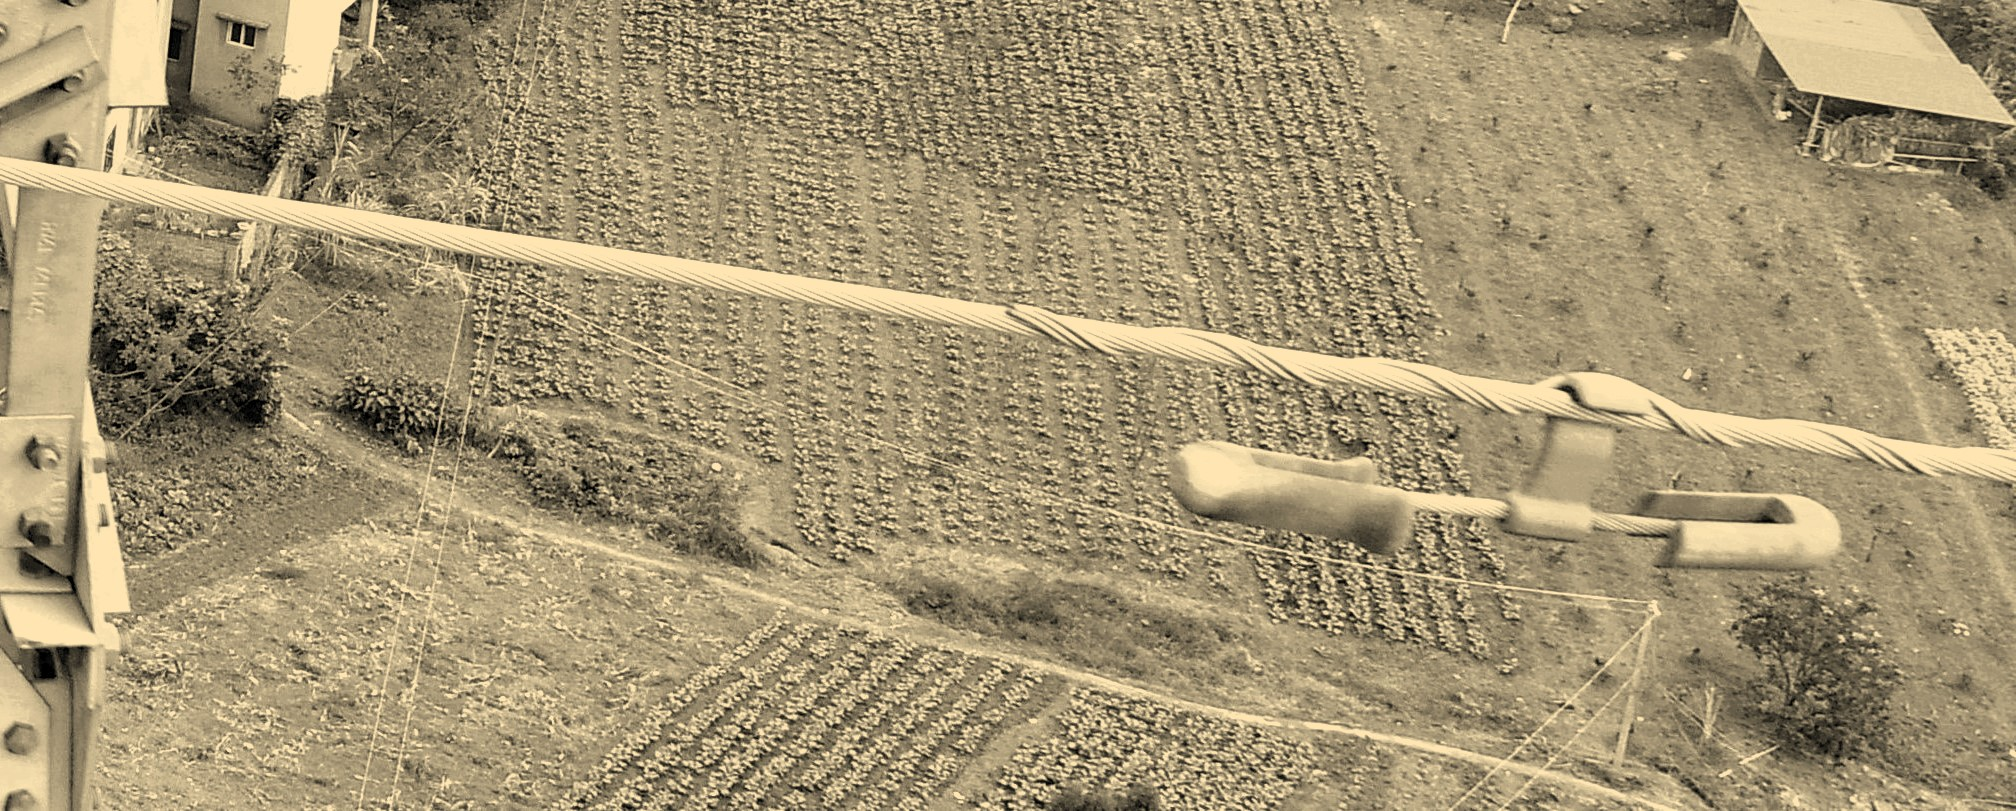Shockproof hammer: (1134, 317, 1857, 595)
